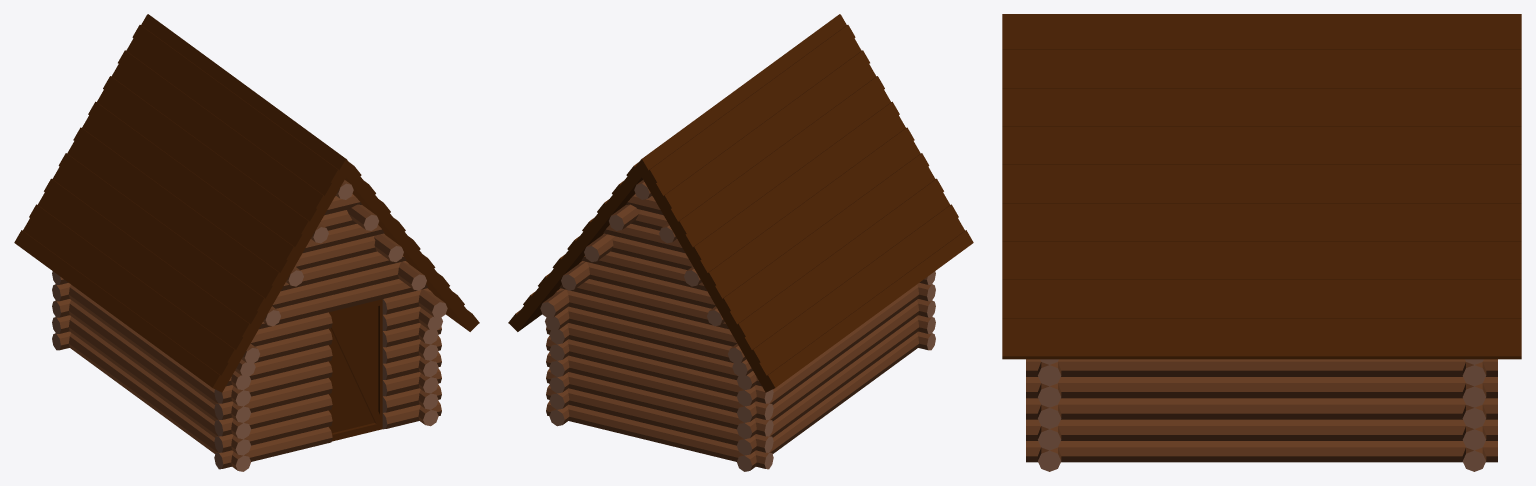
File: woodHouse.fbx
The picture shows the model from 3 angles, left to right: view 1: azimuth 30°, elevation 25°; view 2: azimuth 150°, elevation 25°; view 3: azimuth 270°, elevation 25°; orthographic projection. The views are drawn at different scales.
Parts seen in each view (by area): view 1: Plane.001, Cylinder.039, Cube; view 2: Plane.001, Cylinder.039; view 3: Plane.001, Cylinder.039.
Part boxes in pixels (x1,y1,x2,y2): Plane.001: (14, 14, 479, 392); Cylinder.039: (52, 180, 447, 471); Cube: (328, 299, 382, 441); Plane.001: (508, 14, 973, 392); Cylinder.039: (540, 180, 935, 471); Plane.001: (1002, 14, 1521, 359); Cylinder.039: (1026, 359, 1497, 471).
Size of the model in its own units: 1711 by 1813 by 2200.
